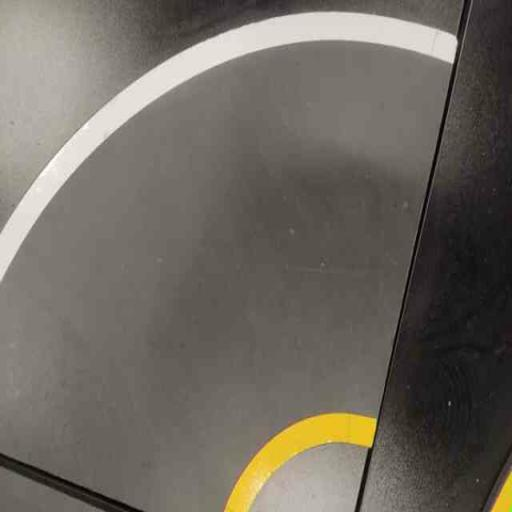left: (0, 3, 461, 511)
